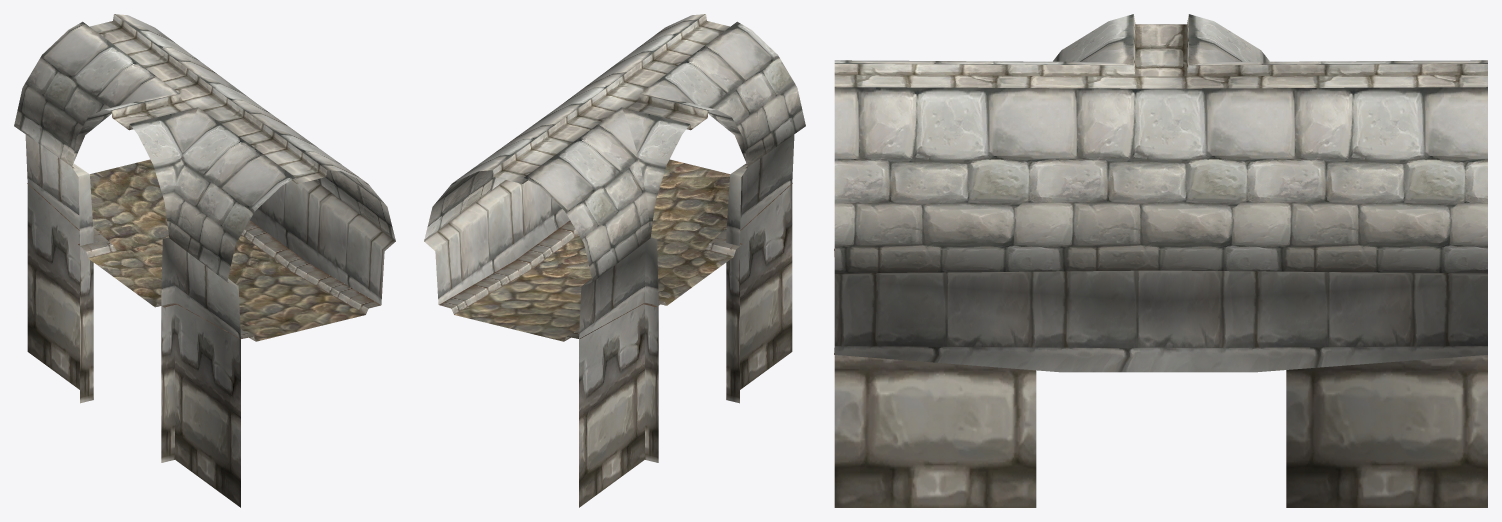
File: stormwind_007.fbx
3 views of the same model, side by side, from view 1: azimuth 30°, elevation 25°; view 2: azimuth 150°, elevation 25°; view 3: azimuth 270°, elevation 25° (orthographic). The views are drawn at different scales.
Parts seen in each view (by area): view 1: stormwind_007_11, stormwind_007_4, stormwind_007_13, stormwind_007_5, stormwind_007_12; view 2: stormwind_007_11, stormwind_007_4, stormwind_007_13, stormwind_007_5, stormwind_007_12; view 3: stormwind_007_4, stormwind_007_11, stormwind_007_5.
Part boxes in pixels (x1,y1,x2,y2): stormwind_007_11: (25, 134, 395, 507); stormwind_007_4: (14, 14, 395, 281); stormwind_007_13: (88, 159, 365, 341); stormwind_007_5: (90, 14, 327, 183); stormwind_007_12: (27, 183, 380, 341); stormwind_007_11: (424, 134, 794, 507); stormwind_007_4: (424, 14, 805, 281); stormwind_007_13: (454, 159, 733, 341); stormwind_007_5: (492, 14, 729, 183); stormwind_007_12: (439, 183, 792, 341); stormwind_007_4: (834, 14, 1487, 273); stormwind_007_11: (834, 270, 1487, 507); stormwind_007_5: (834, 14, 1487, 88).
Size of the model in its own units: 10.07 by 18.07 by 22.07.
